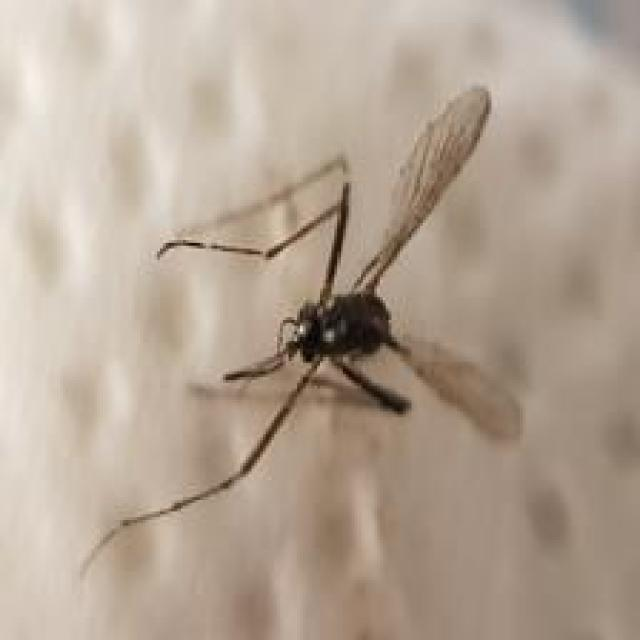Aedes albopictus: (79, 83, 527, 580)
